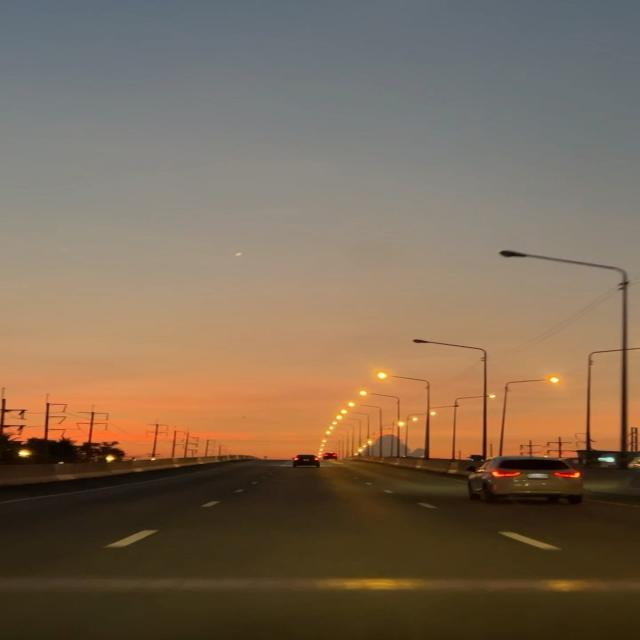Poth-hole: (126, 481, 454, 581)
